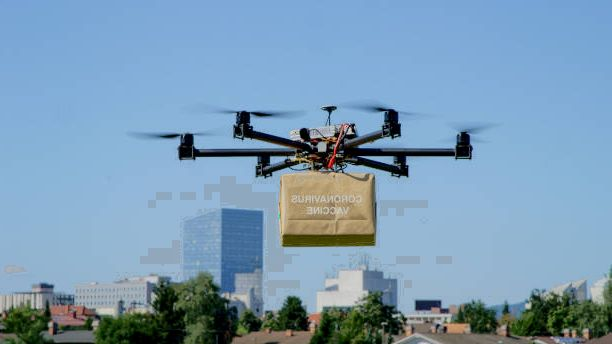Drone: (121, 102, 499, 180)
